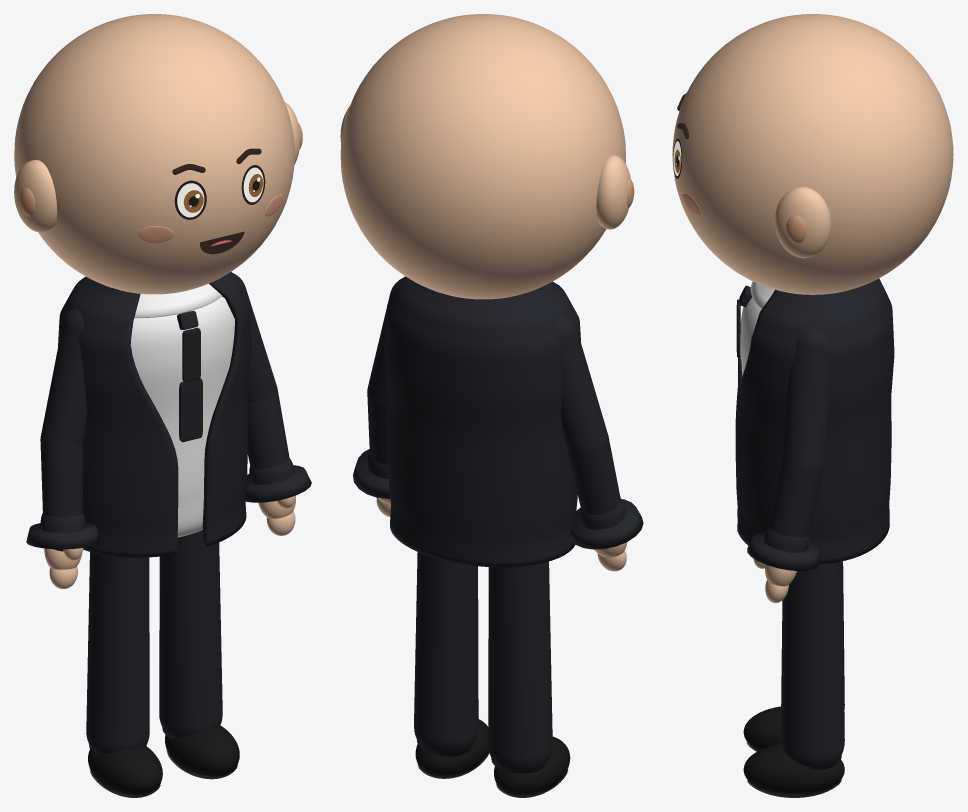
The model's file is hoofdpersonage_pak.glb.
The picture shows the model from 3 angles, left to right: view 1: azimuth 30°, elevation 25°; view 2: azimuth 150°, elevation 25°; view 3: azimuth 270°, elevation 25°; orthographic projection.
Visible parts, largest first — view 1: hoofdpersonage_pak_hoofd, hoofdpersonage_pak_jas, hoofdpersonage_pak_been_R, hoofdpersonage_pak_been_L, hoofdpersonage_pak_romp, hoofdpersonage_pak_bovenarm_R, hoofdpersonage_pak_onderarm_R, hoofdpersonage_pak_schoen_R, hoofdpersonage_pak_schoen_L, hoofdpersonage_pak_onderarm_L, hoofdpersonage_pak_oor_R, hoofdpersonage_pak_kraag (+8 smaller); view 2: hoofdpersonage_pak_hoofd, hoofdpersonage_pak_jas, hoofdpersonage_pak_been_R, hoofdpersonage_pak_been_L, hoofdpersonage_pak_bovenarm_R, hoofdpersonage_pak_onderarm_R, hoofdpersonage_pak_oor_R, hoofdpersonage_pak_schoen_R, hoofdpersonage_pak_mouw_te_lang_R, hoofdpersonage_pak_schoen_L, hoofdpersonage_pak_onderarm_L, hoofdpersonage_pak_bovenarm_L (+2 smaller); view 3: hoofdpersonage_pak_hoofd, hoofdpersonage_pak_jas, hoofdpersonage_pak_been_L, hoofdpersonage_pak_bovenarm_L, hoofdpersonage_pak_schoen_L, hoofdpersonage_pak_onderarm_L, hoofdpersonage_pak_oor_L, hoofdpersonage_pak_mouw_te_lang_L, hoofdpersonage_pak_schoen_R, hoofdpersonage_pak_romp, hoofdpersonage_pak_manchet_L.
Boxes of the visible parts, left/top/right/bottom form: hoofdpersonage_pak_hoofd: left=14, top=14, right=294, bottom=294; hoofdpersonage_pak_jas: left=58, top=272, right=251, bottom=557; hoofdpersonage_pak_been_R: left=86, top=552, right=149, bottom=753; hoofdpersonage_pak_been_L: left=159, top=530, right=222, bottom=737; hoofdpersonage_pak_romp: left=130, top=296, right=234, bottom=537; hoofdpersonage_pak_bovenarm_R: left=40, top=309, right=86, bottom=445; hoofdpersonage_pak_onderarm_R: left=40, top=438, right=83, bottom=516; hoofdpersonage_pak_schoen_R: left=88, top=746, right=162, bottom=795; hoofdpersonage_pak_schoen_L: left=165, top=725, right=239, bottom=776; hoofdpersonage_pak_onderarm_L: left=247, top=390, right=289, bottom=469; hoofdpersonage_pak_oor_R: left=14, top=160, right=57, bottom=232; hoofdpersonage_pak_kraag: left=134, top=283, right=221, bottom=318; hoofdpersonage_pak_hoofd: left=340, top=14, right=625, bottom=299; hoofdpersonage_pak_jas: left=384, top=276, right=580, bottom=567; hoofdpersonage_pak_been_R: left=488, top=561, right=552, bottom=771; hoofdpersonage_pak_been_L: left=414, top=552, right=478, bottom=753; hoofdpersonage_pak_bovenarm_R: left=555, top=314, right=607, bottom=453; hoofdpersonage_pak_onderarm_R: left=567, top=437, right=620, bottom=514; hoofdpersonage_pak_oor_R: left=596, top=154, right=630, bottom=229; hoofdpersonage_pak_schoen_R: left=494, top=736, right=570, bottom=795; hoofdpersonage_pak_mouw_te_lang_R: left=570, top=499, right=643, bottom=549; hoofdpersonage_pak_schoen_L: left=415, top=719, right=488, bottom=776; hoofdpersonage_pak_onderarm_L: left=367, top=391, right=388, bottom=464; hoofdpersonage_pak_bovenarm_L: left=367, top=277, right=403, bottom=405; hoofdpersonage_pak_hoofd: left=672, top=14, right=953, bottom=294; hoofdpersonage_pak_jas: left=735, top=278, right=894, bottom=564; hoofdpersonage_pak_been_L: left=781, top=561, right=844, bottom=767; hoofdpersonage_pak_bovenarm_L: left=782, top=329, right=830, bottom=469; hoofdpersonage_pak_schoen_L: left=743, top=744, right=844, bottom=793; hoofdpersonage_pak_onderarm_L: left=769, top=459, right=824, bottom=537; hoofdpersonage_pak_oor_L: left=775, top=186, right=831, bottom=258; hoofdpersonage_pak_mouw_te_lang_L: left=747, top=532, right=819, bottom=571; hoofdpersonage_pak_schoen_R: left=743, top=706, right=781, bottom=750; hoofdpersonage_pak_romp: left=740, top=297, right=761, bottom=376; hoofdpersonage_pak_manchet_L: left=764, top=525, right=809, bottom=552.
Bounding box in the file's own units: 0.6887 × 1.76 × 0.6.
